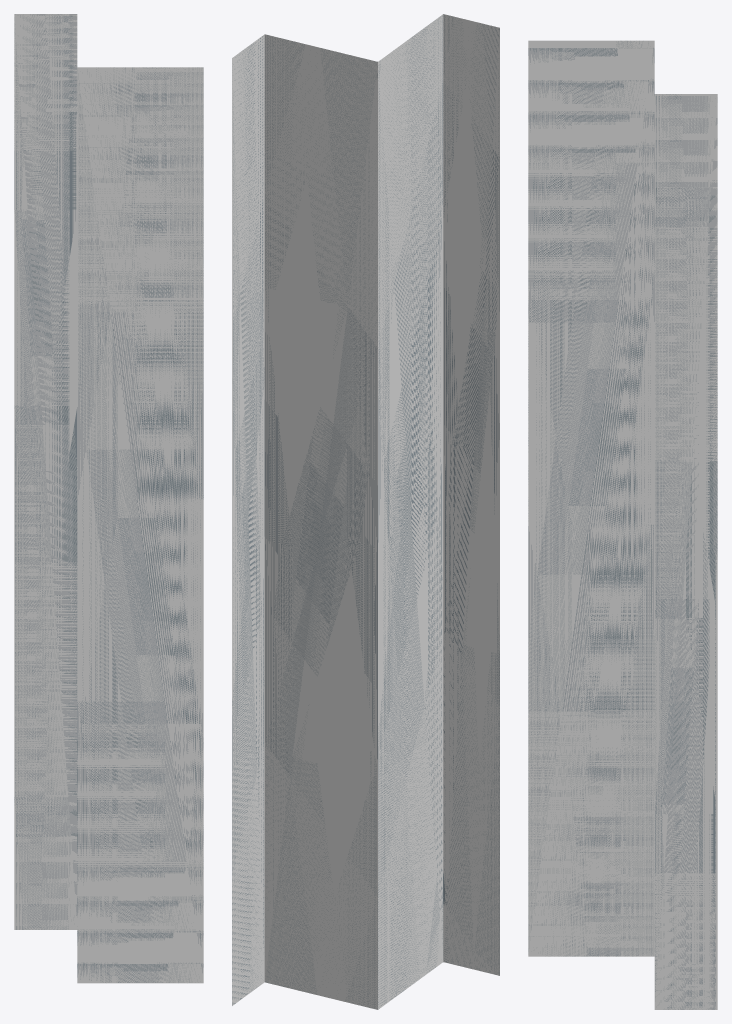
The model's file is Corner_os_050x050x025x4.dae.
3 renders of one model, left to right at view 1: azimuth 90°, elevation 25°; view 2: azimuth 150°, elevation 25°; view 3: azimuth 270°, elevation 25°, orthographic. The views are drawn at different scales.
Visible parts, largest first — view 1: group_0; view 2: group_0; view 3: group_0.
Boxes of the visible parts, <box> form: group_0: <box>14,14,203,983</box>; group_0: <box>232,14,499,1009</box>; group_0: <box>528,40,717,1009</box>.
Size of the model in its own units: 29.53 by 29.53 by 157.
